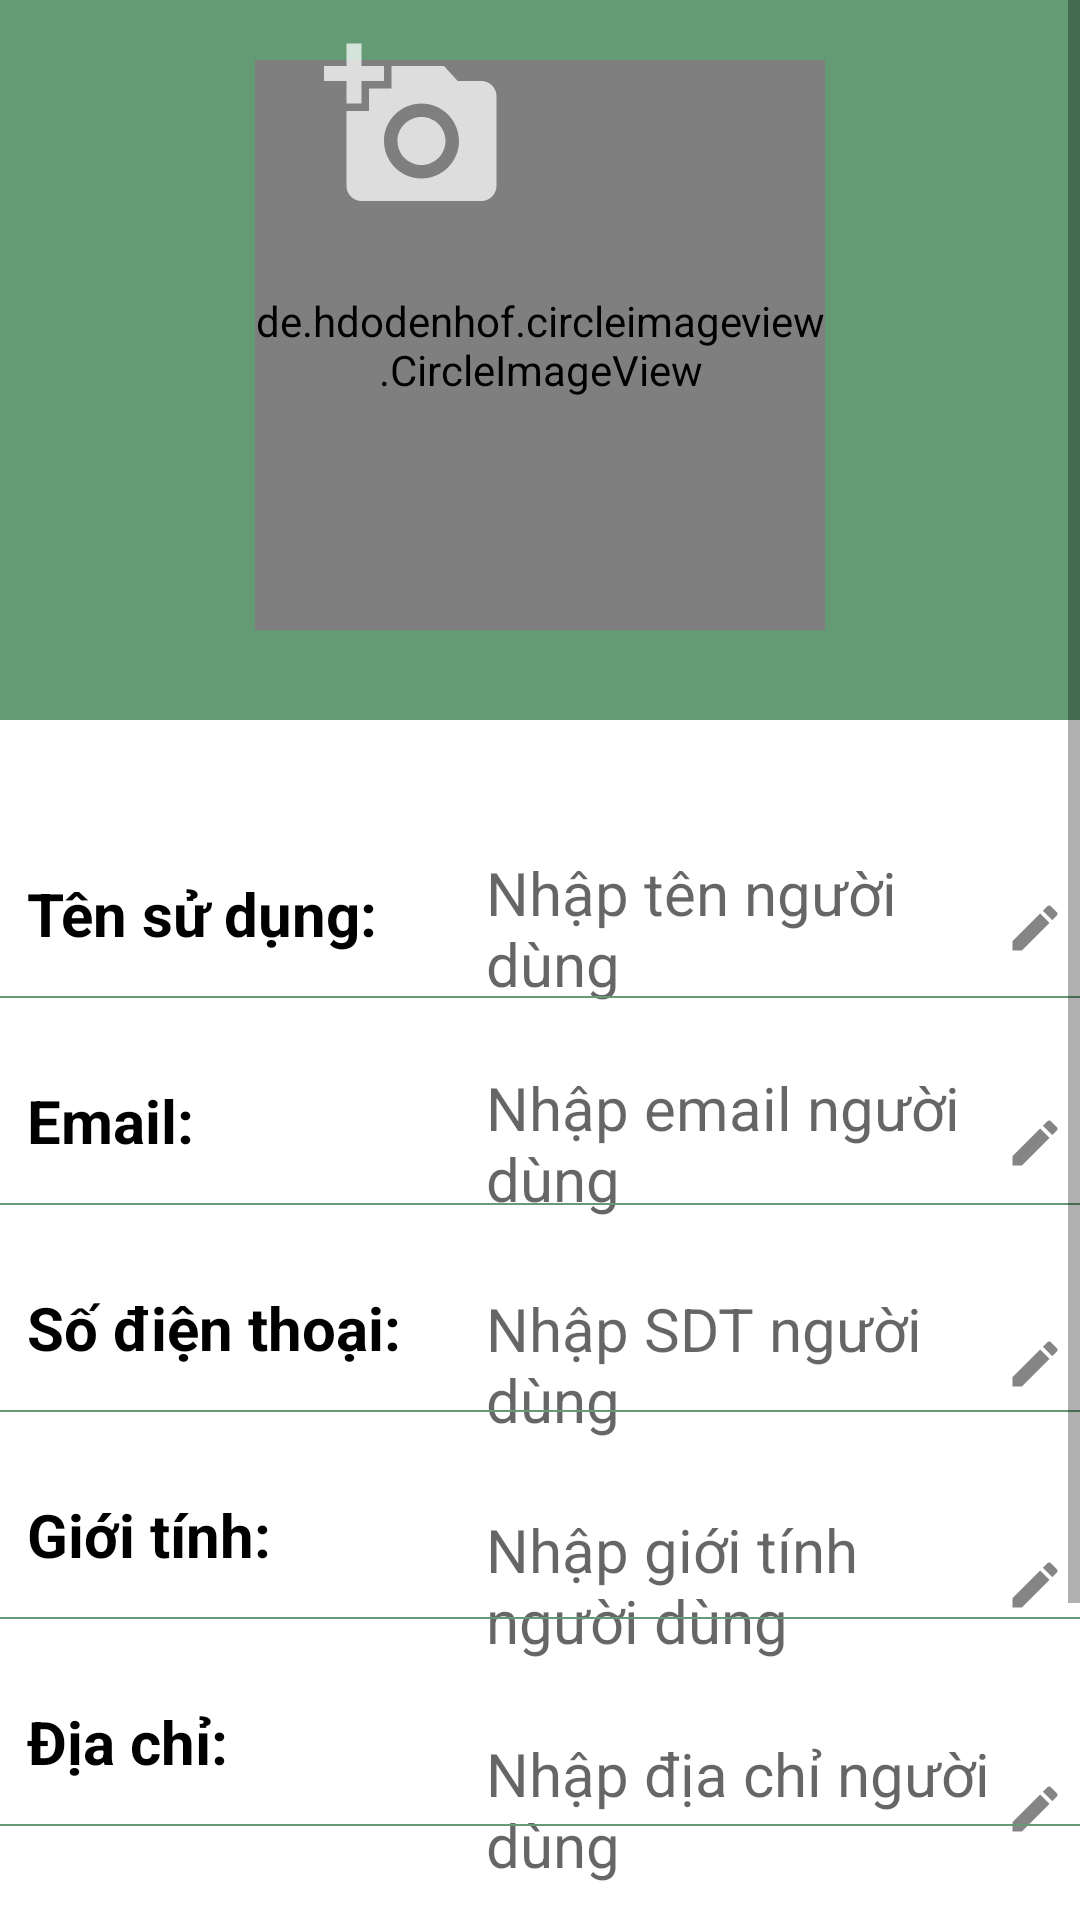

Named icons in this screenshot (1080w x 1920h) and their centers, [x,y]:
addphoto: [421,133]
